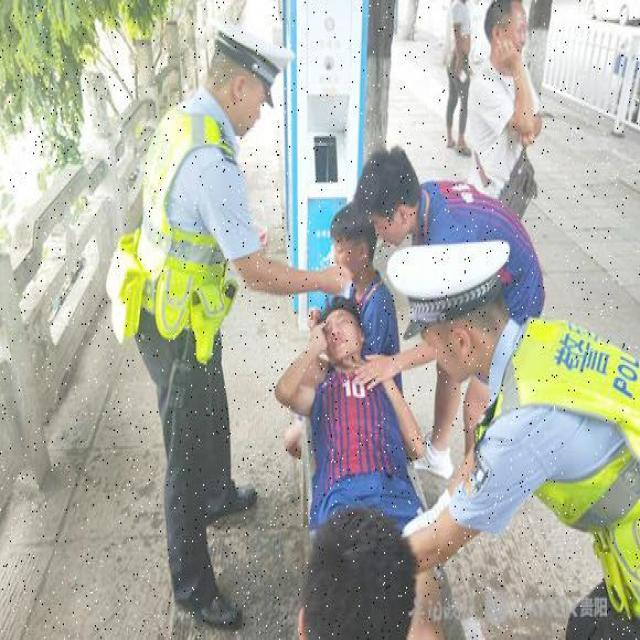fall: (290, 310, 426, 526)
